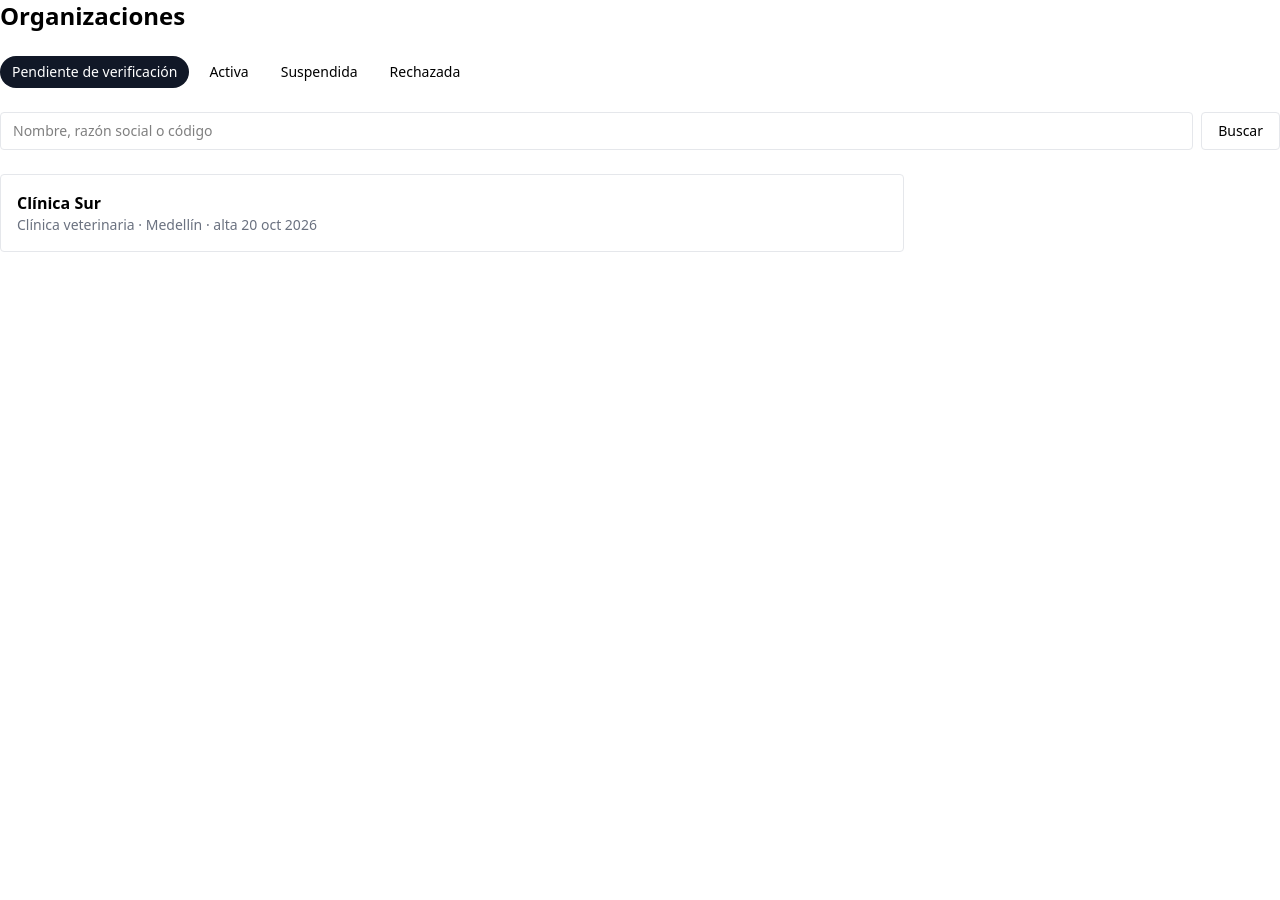
it: AdminOrganizationsPage (FE-009, PRD-017) › transición inválida (otro admin actuó) muestra el error y recarga
Click the button with test id "org-row": (59,203) left=0, top=174, right=904, bottom=252
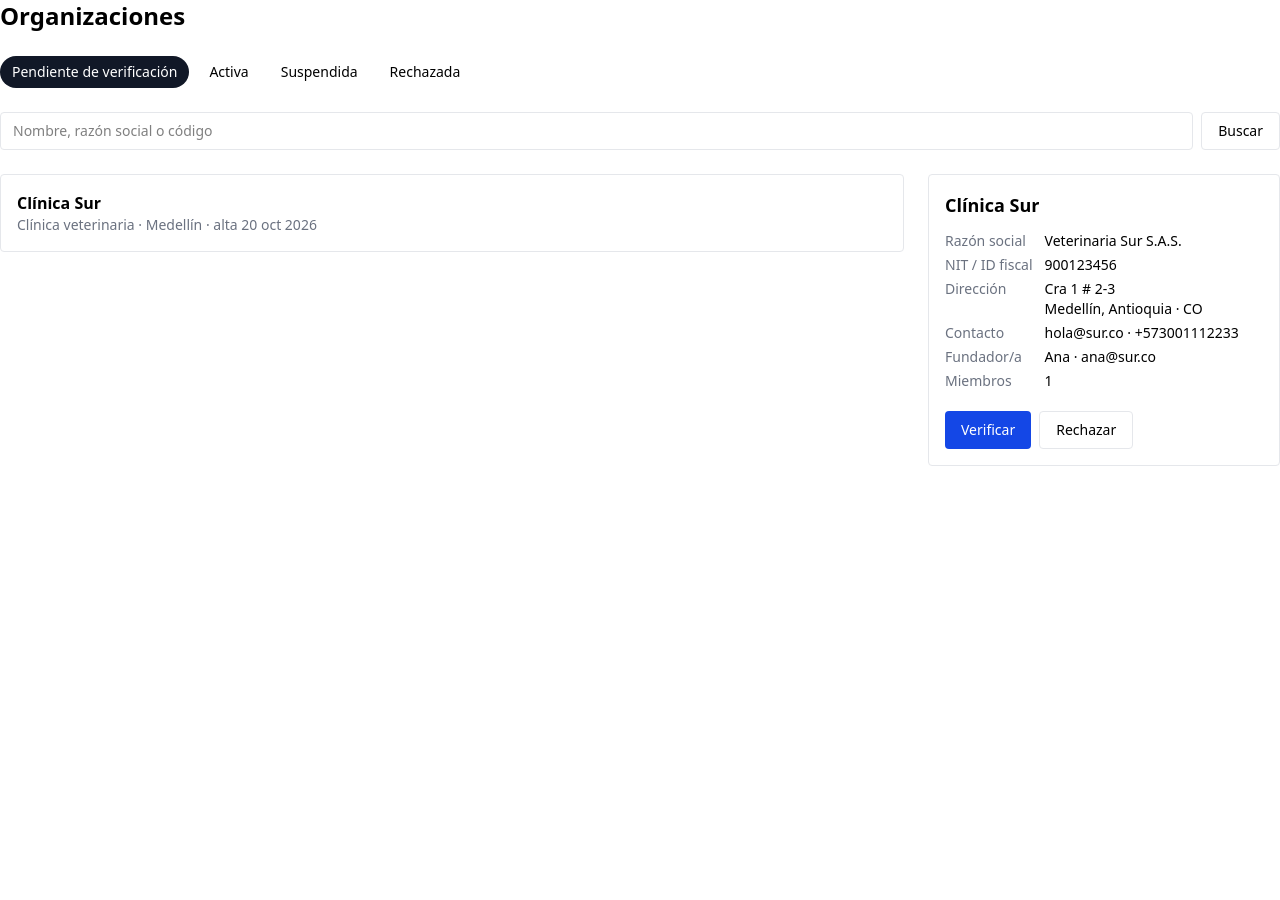
Click the button with test id "action-verify": (988,430) left=945, top=411, right=1031, bottom=449
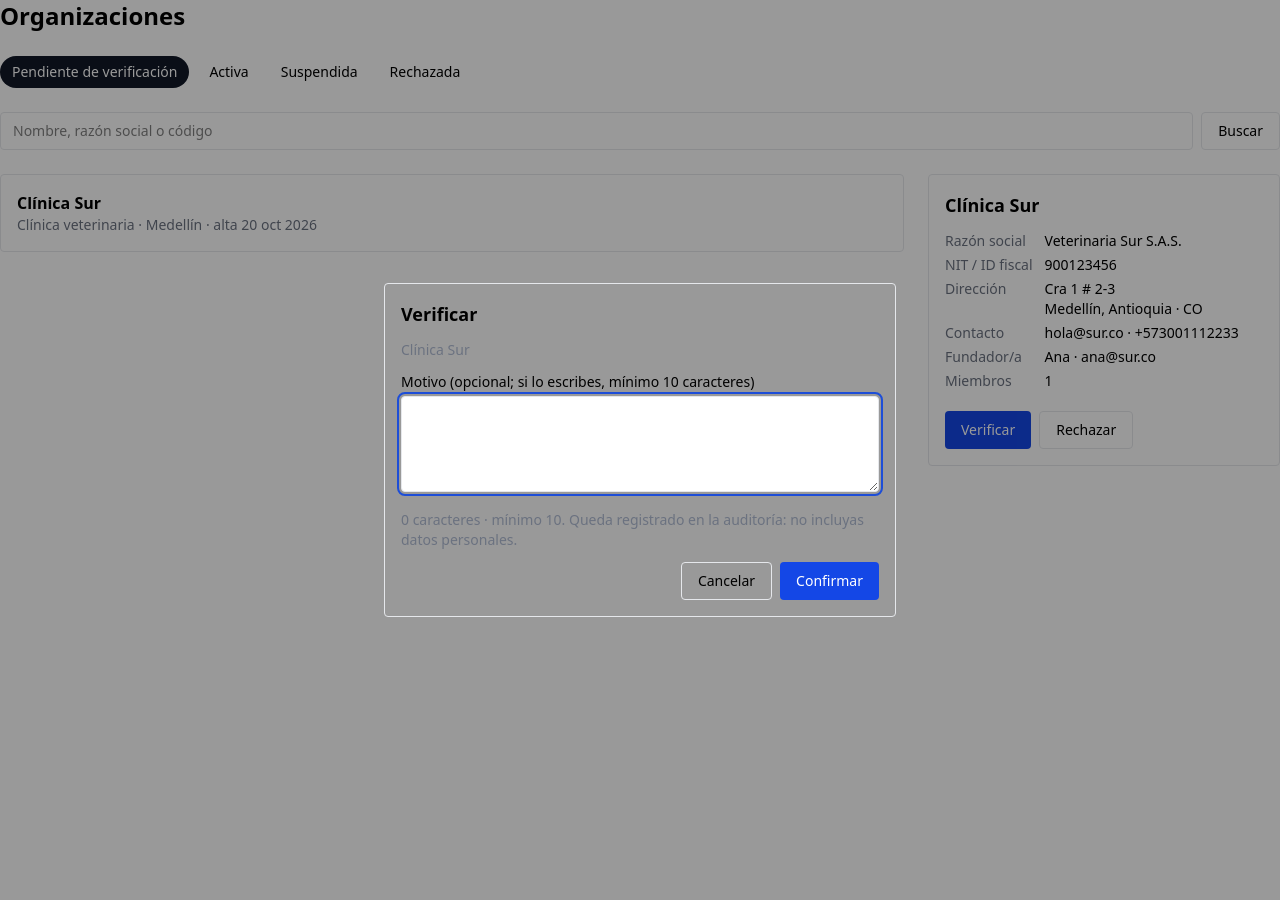
Submit the dialog with test id "reason-dialog", box left=384, top=283, right=896, bottom=617
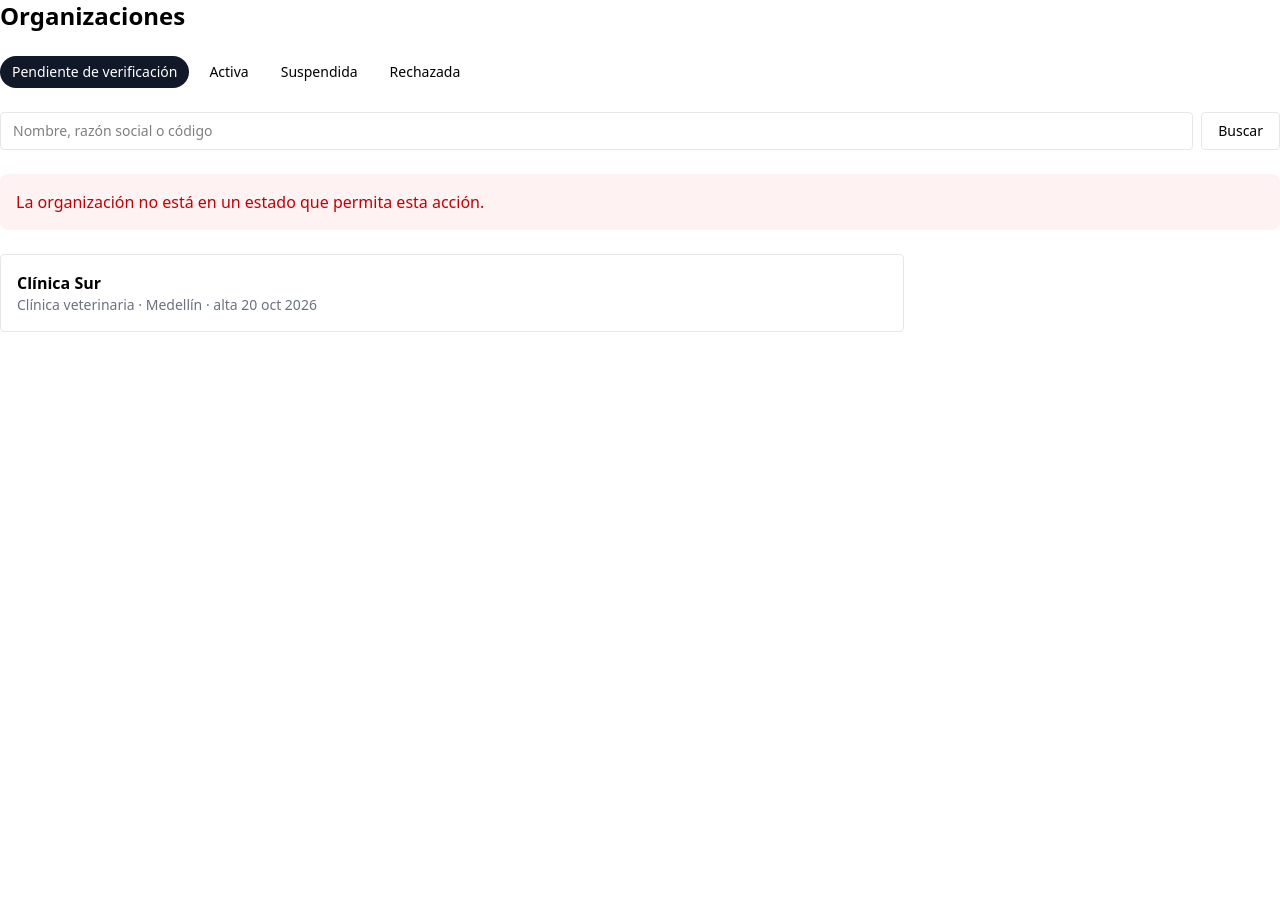
Expected: the text "no está en un estado que permita esta acción" is shown, left=16, top=191, right=484, bottom=213
